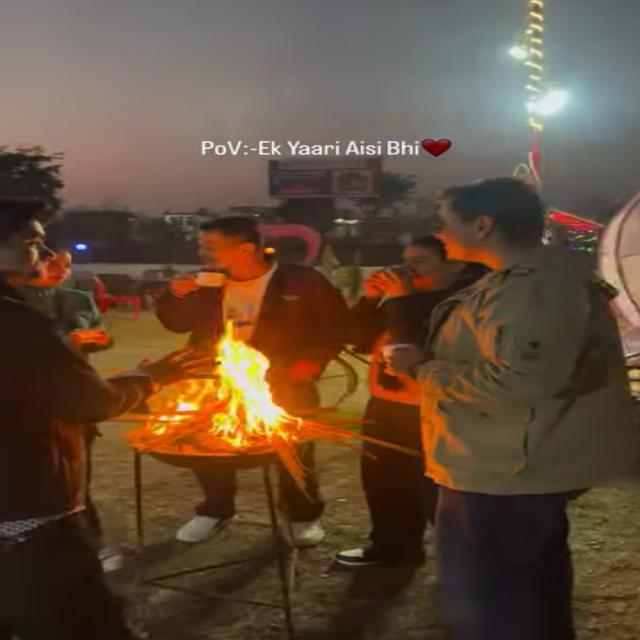fire: (206, 320, 302, 447)
